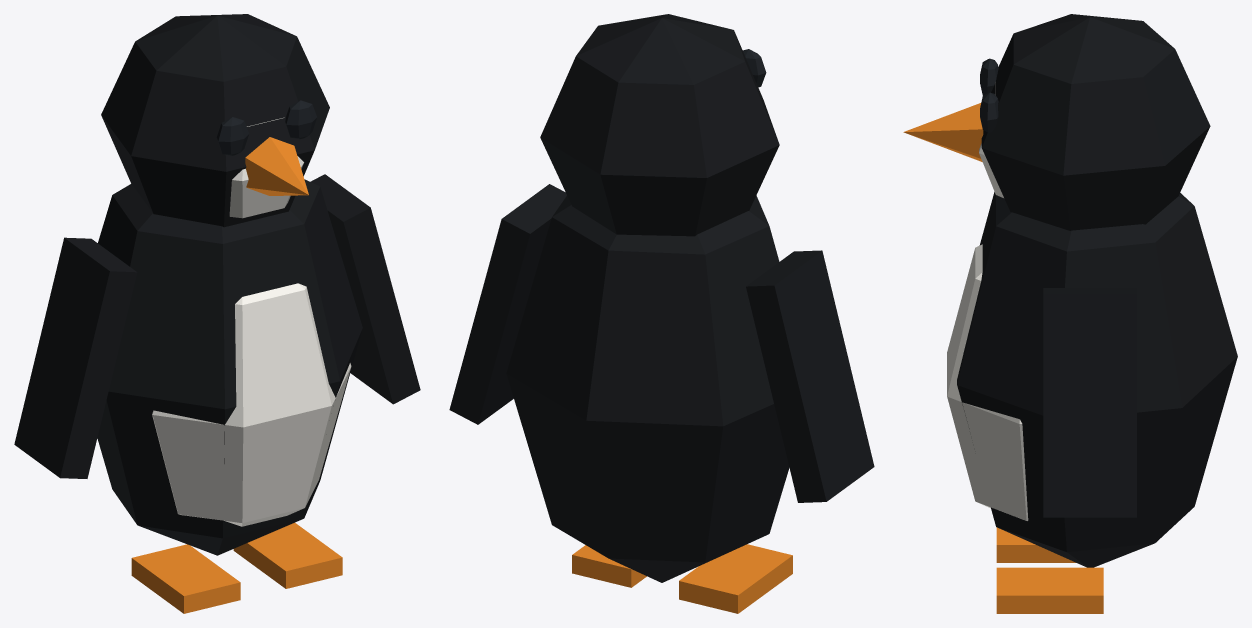
File: penguin-lod1.glb
3 views of the same model, side by side, from view 1: azimuth 30°, elevation 25°; view 2: azimuth 150°, elevation 25°; view 3: azimuth 270°, elevation 25° (orthographic). The views are drawn at different scales.
Visible parts, largest first — view 1: penguin; view 2: penguin; view 3: penguin.
Part boxes in pixels (box(x1,y1,x2,y2)): penguin: box(14, 14, 420, 613); penguin: box(449, 14, 874, 613); penguin: box(903, 14, 1237, 613).
Bounding box in the file's own units: 0.6363 × 0.92 × 0.501.
